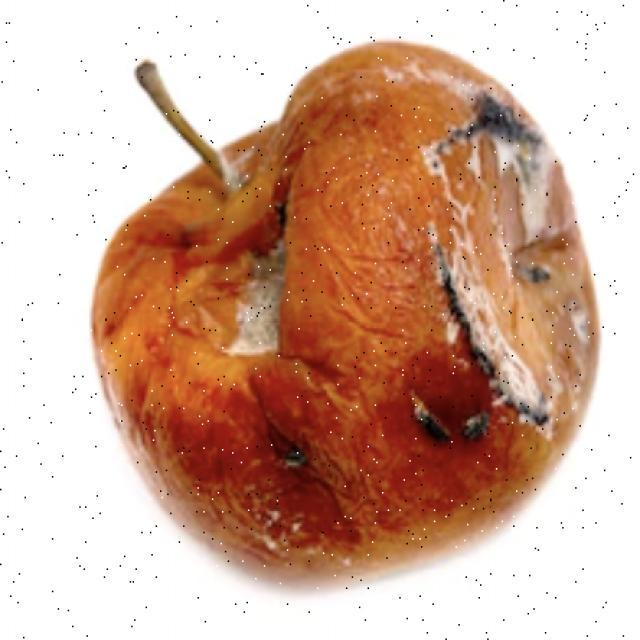Rotten: (130, 55, 580, 640)
